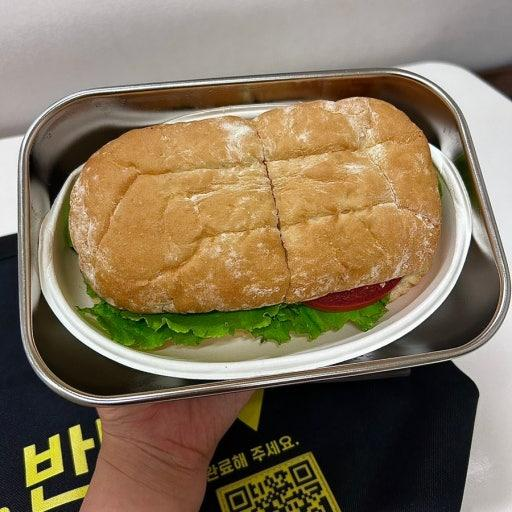Lunch Box: (18, 69, 509, 405)
